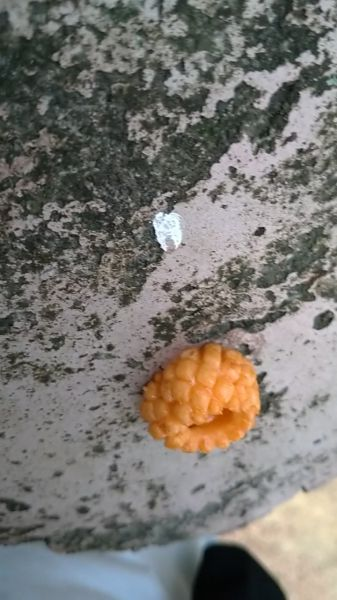eggs: (135, 333, 265, 460)
